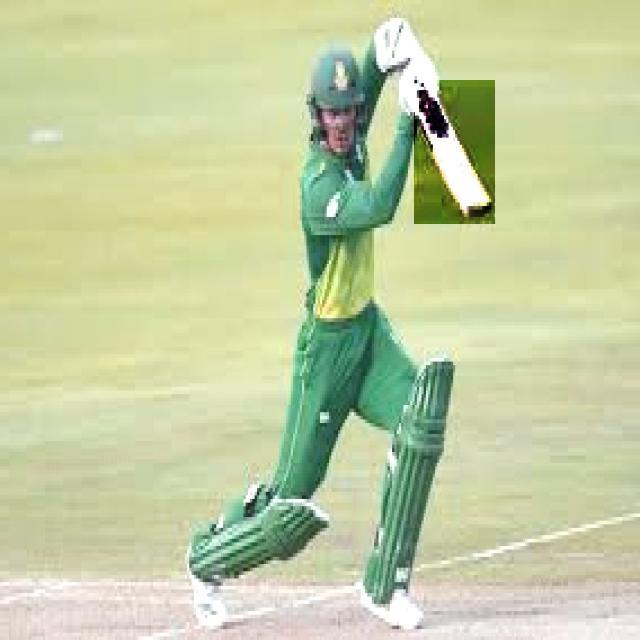bat: (410, 81, 496, 226)
toe: (462, 198, 498, 219)
